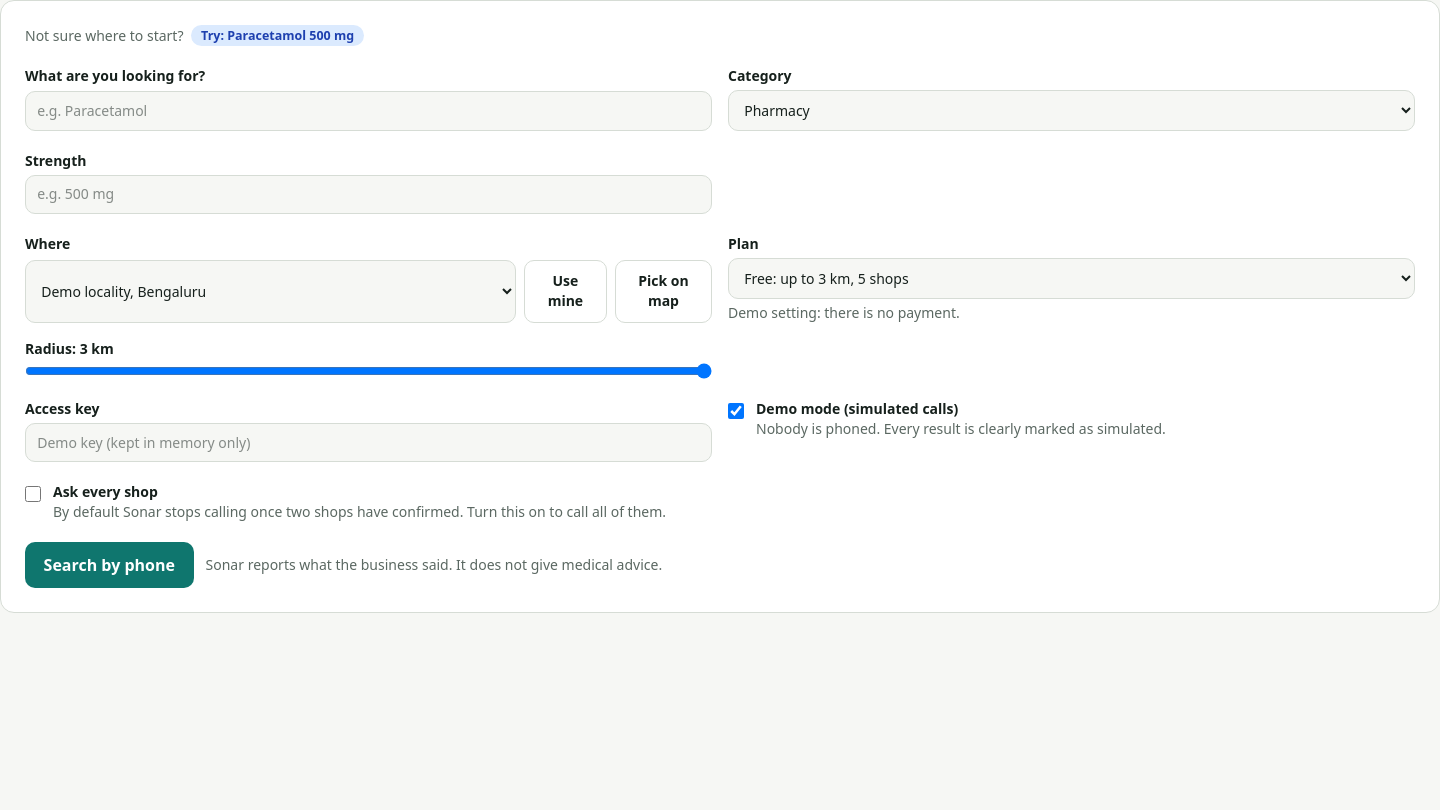
SearchForm › sends the plan and caps the radius at the plan limit (demo setting, no payment)
Later steps or results of the test are not shown.
Check: the text "Demo setting: there is no payment." is shown, box [728,303,960,322]
Select "Pro: up to 10 km, 10 shops" in the dropdown labelled "Plan Demo setting: there is no payment.": coordinates (1072, 278) [728,258,1415,299]
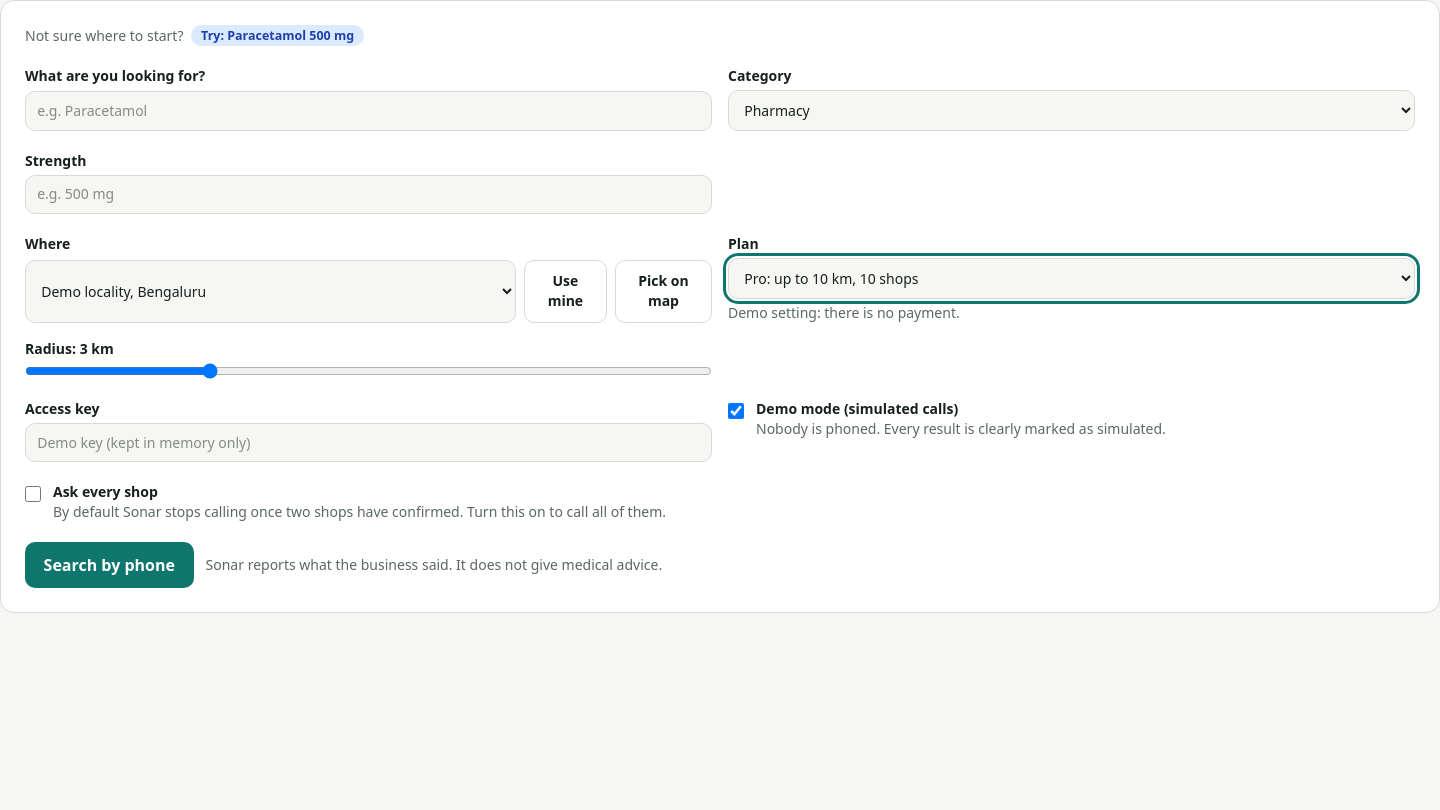
Check: the slider named "Search radius in kilometres" has attribute max="10", box [25,363,712,379]
